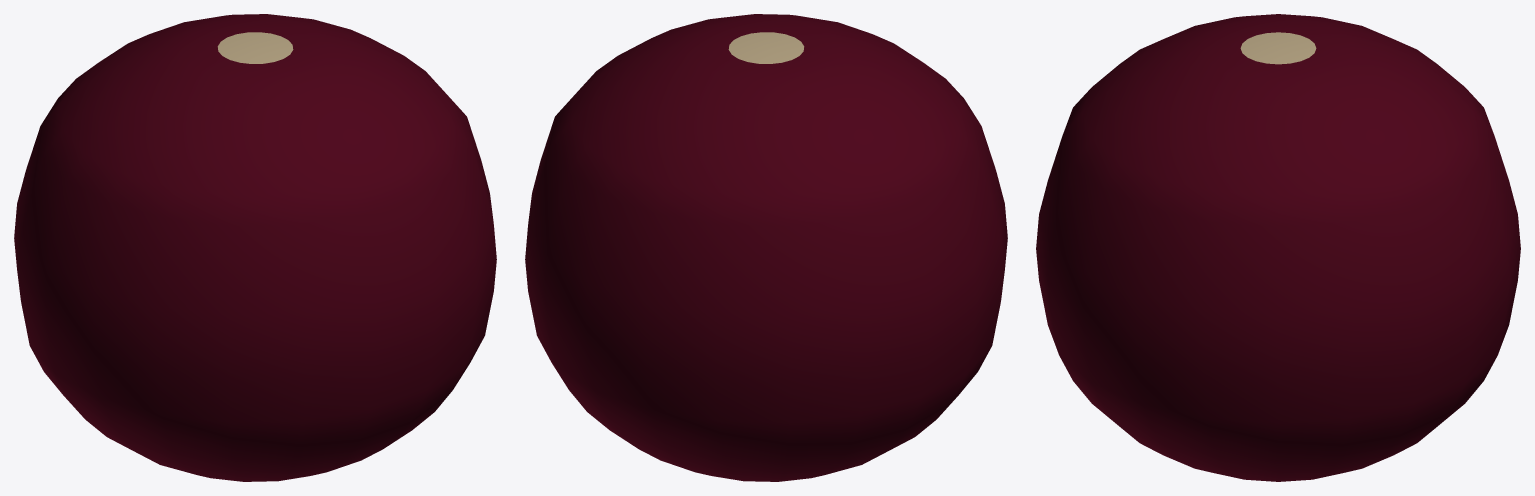
The model's file is cranberry.fbx.
3 renders of one model, left to right at view 1: azimuth 30°, elevation 25°; view 2: azimuth 150°, elevation 25°; view 3: azimuth 270°, elevation 25°, orthographic.
Parts seen in each view (by area): view 1: pSphere1; view 2: pSphere1; view 3: pSphere1.
Part boxes in pixels (x1,y1,x2,y2): pSphere1: (14,14,496,481); pSphere1: (525,14,1007,481); pSphere1: (1036,14,1520,481).
Size of the model in its own units: 1.78 by 1.66 by 1.78.
